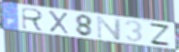3: (124, 20, 146, 44)
8: (74, 14, 95, 38)
N: (96, 15, 123, 41)
R: (21, 6, 46, 33)
X: (47, 10, 70, 36)
Z: (148, 22, 172, 47)
